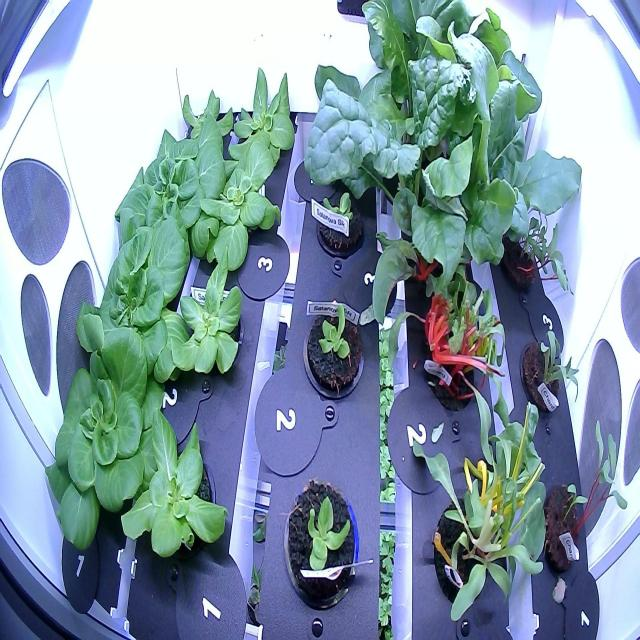young: (40, 294, 169, 559), (68, 207, 200, 425), (117, 396, 234, 576), (105, 120, 229, 253), (187, 144, 289, 286), (274, 473, 368, 611), (160, 255, 246, 388), (219, 58, 302, 178), (296, 297, 374, 408), (157, 75, 235, 173), (309, 182, 372, 262)
